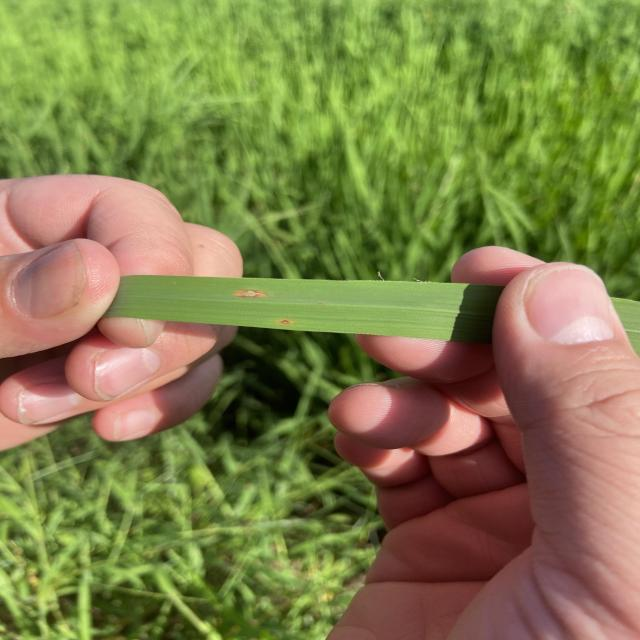Dao on: (233, 290, 266, 297), (279, 320, 290, 324)
